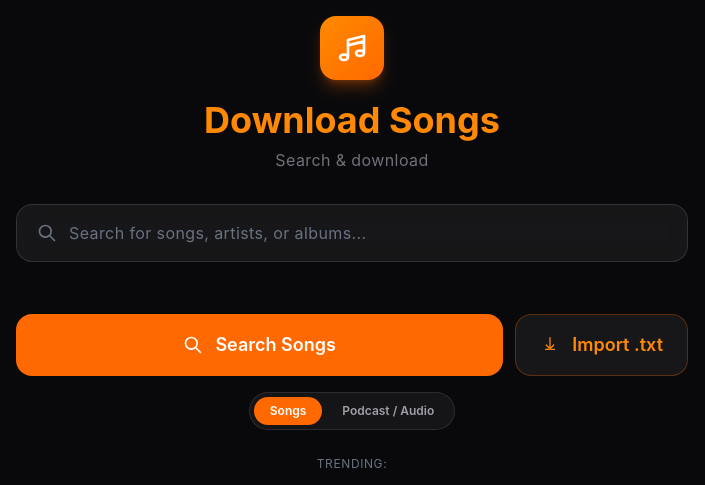
Test: Download search › explains when Search is clicked with an empty query
Step 1. Click the button "Search Songs" → (260, 345), box [16,314,503,376]
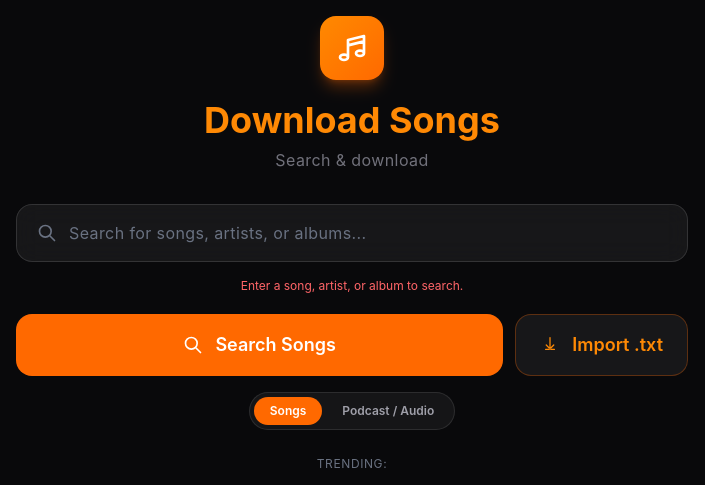
Expected: the text "Enter a song, artist, or album to search." is shown, [241,278,463,293]
